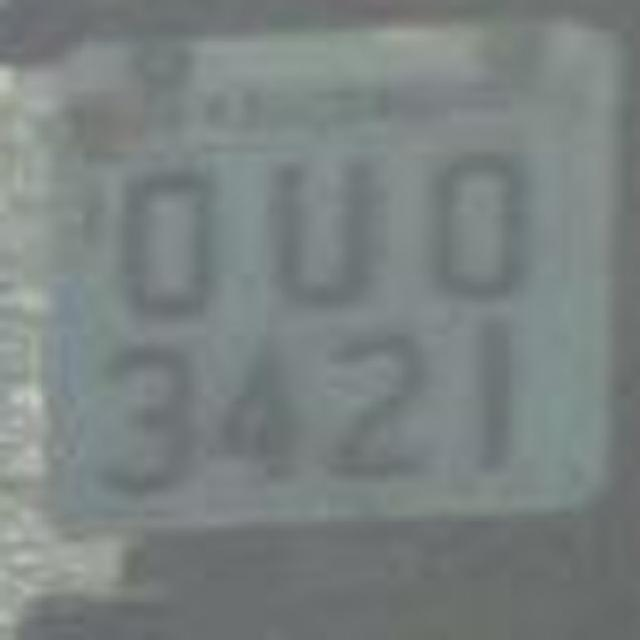0: (408, 136, 552, 312)
1: (432, 304, 540, 488)
2: (308, 316, 444, 496)
4: (192, 311, 312, 504)
O: (96, 148, 249, 328)
U: (240, 132, 412, 328)
